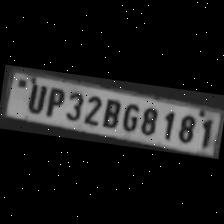1: (195, 113, 219, 150), (156, 107, 178, 141)
2: (81, 92, 103, 126)
3: (62, 88, 85, 122)
8: (174, 110, 199, 146), (137, 104, 161, 138)
B: (98, 96, 122, 129)
G: (118, 100, 140, 133)
P: (42, 84, 66, 118)
U: (22, 78, 48, 116)
